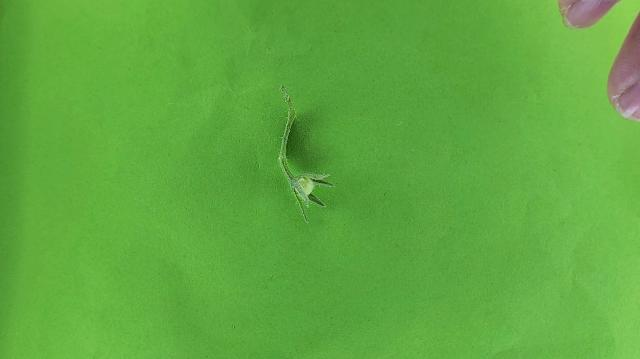Fruit Bud: (290, 174, 333, 220)
